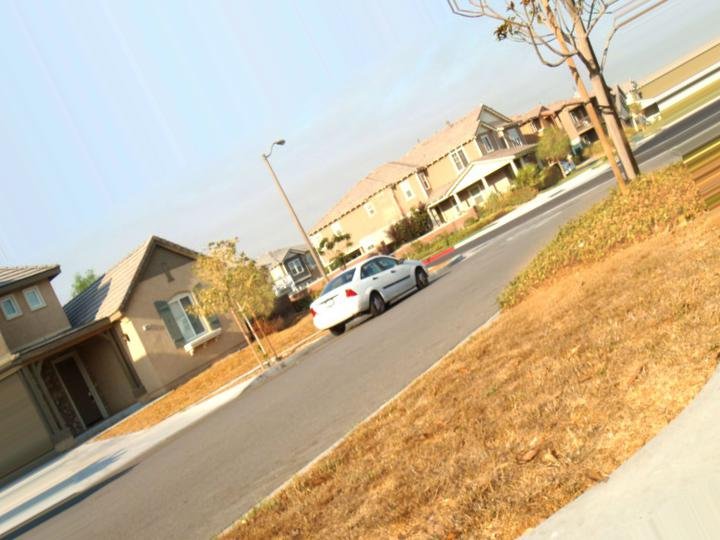patch: (435, 308, 687, 438), (263, 455, 541, 528), (612, 243, 706, 301), (117, 418, 144, 432)
